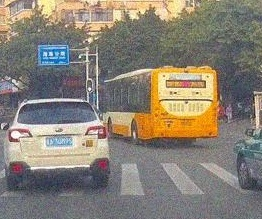L_light: (7, 127, 33, 142), (154, 106, 159, 122)
R_light: (85, 125, 108, 139), (213, 106, 217, 120)
T_light: (182, 85, 193, 88), (52, 102, 67, 104)
day-left: (3, 98, 111, 189)
day-no: (151, 66, 218, 143)
